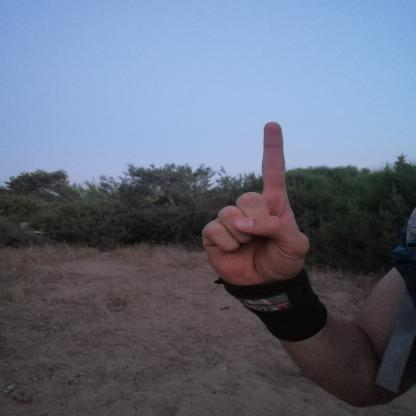BAA: (190, 112, 324, 300)
